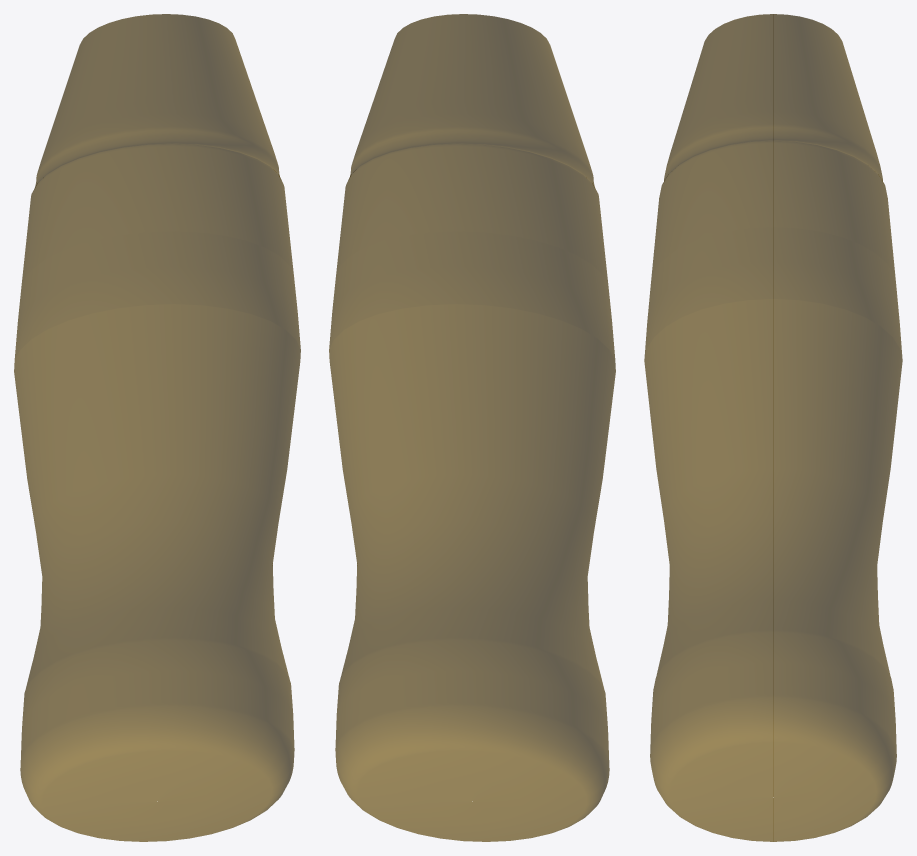
File: coca.gltf
3 renders of one model, left to right at view 1: azimuth 30°, elevation 25°; view 2: azimuth 150°, elevation 25°; view 3: azimuth 270°, elevation 25°, orthographic.
Visible parts, largest first — view 1: liquido; view 2: liquido; view 3: liquido.
Part boxes in pixels (x1=…): liquido: x1=14, y1=14, x2=300, y2=841; liquido: x1=329, y1=14, x2=615, y2=841; liquido: x1=644, y1=14, x2=902, y2=841.
Size of the model in its own units: 116 by 327 by 102.
